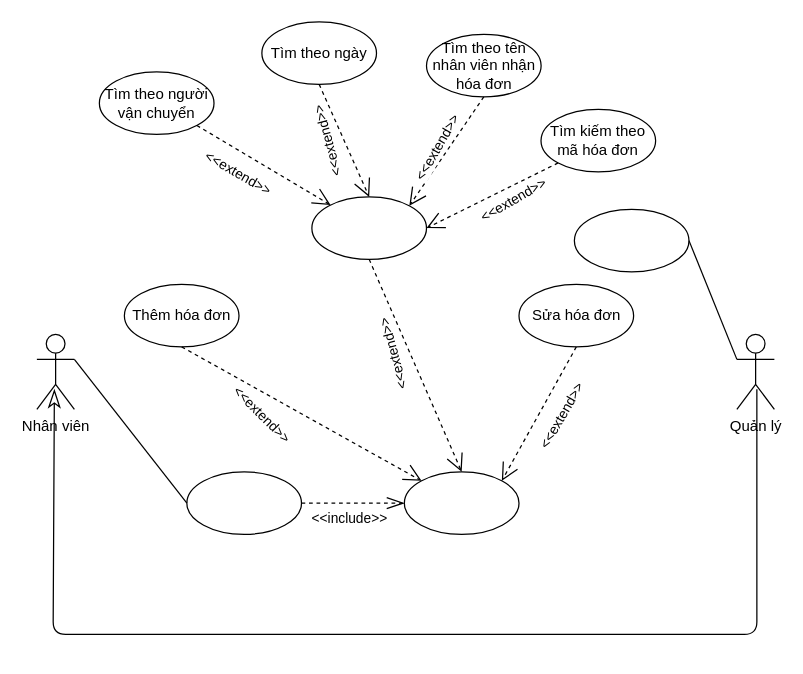
This 803x674 diagram has some shape labels left out. Each missing label, with the centre of its shape:
"Quản lý hóa đơn xuất" goes at point (461, 502).
"Tìm kiếm" goes at point (368, 227).
"Xóa hóa đơn" goes at point (631, 240).
"Đăng nhập" goes at point (244, 502).
